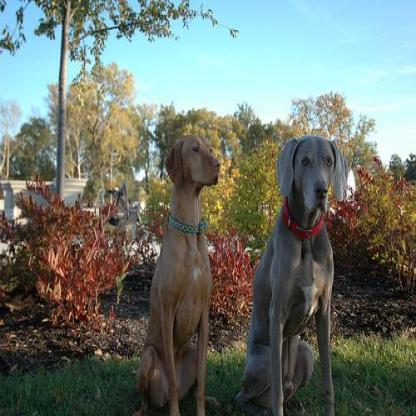vizsla: (240, 95, 352, 413), (134, 131, 221, 414)
